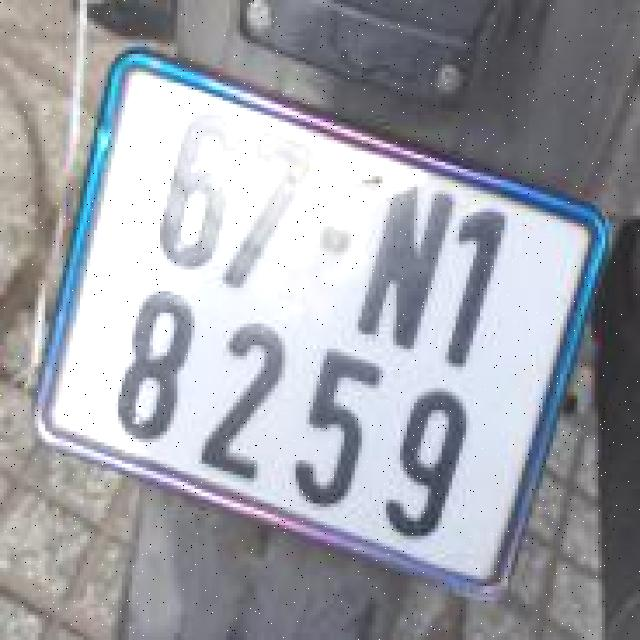1: (449, 205, 501, 385)
2: (202, 307, 285, 480)
5: (299, 338, 383, 521)
6: (158, 103, 238, 275)
7: (232, 130, 312, 310)
8: (105, 278, 192, 454)
9: (386, 380, 473, 548)
N: (365, 178, 449, 354)
